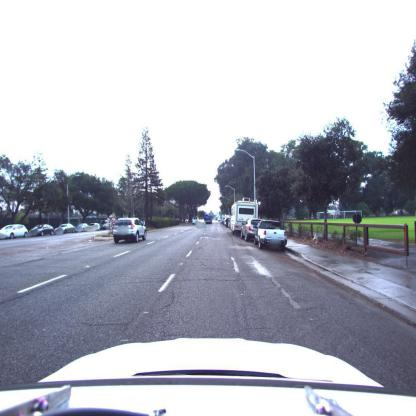car: (256, 221, 288, 251), (114, 218, 147, 244), (244, 220, 263, 242), (1, 224, 29, 238), (27, 225, 55, 237), (55, 223, 76, 235), (75, 224, 99, 233), (204, 214, 212, 224)
truck: (230, 201, 260, 237)
